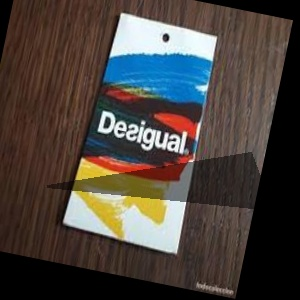desigual: (140, 52, 262, 185)
